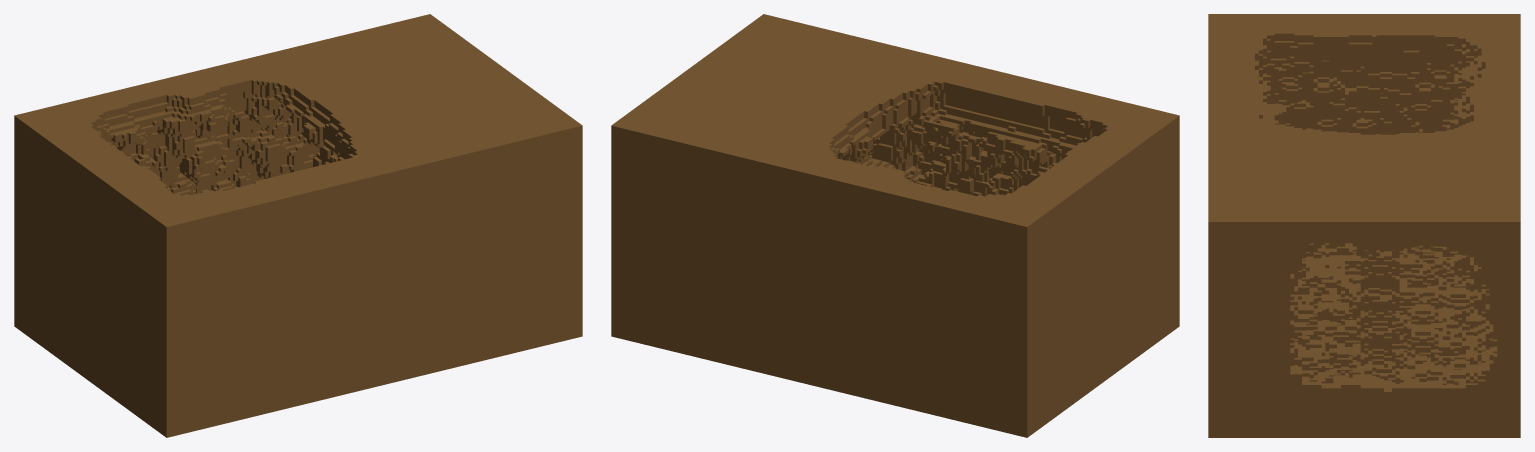
File: Level 1 pathway 2.2.obj
The picture shows the model from 3 angles, left to right: view 1: azimuth 30°, elevation 25°; view 2: azimuth 150°, elevation 25°; view 3: azimuth 270°, elevation 25°; orthographic projection. The views are drawn at different scales.
Size of the model in its own units: 126 by 61 by 80.
1 material, 1 textured.
